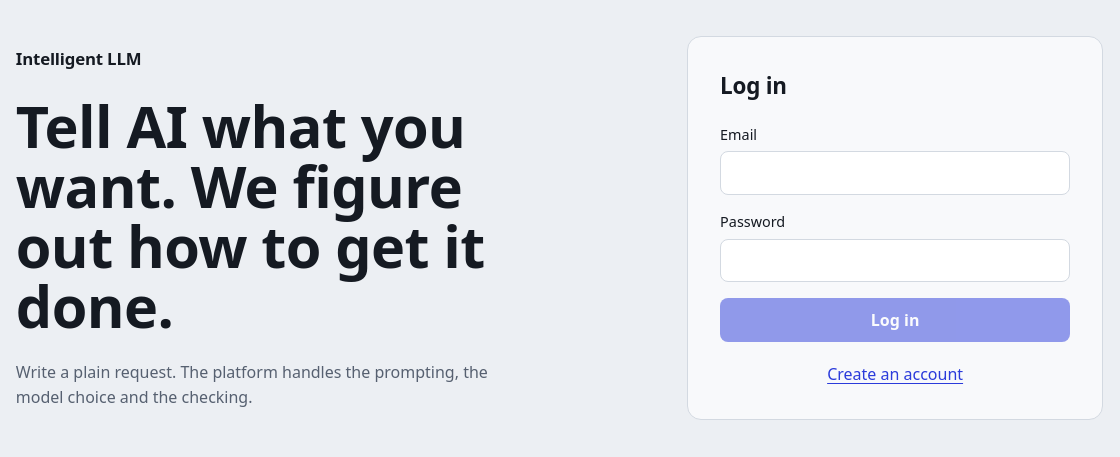
authentication flow › shows the server error on failed login
The image size is (1120, 457).
Type "mo@example.com" into the field labelled "Email". click: (895, 173)
box: [720, 152, 1070, 195]
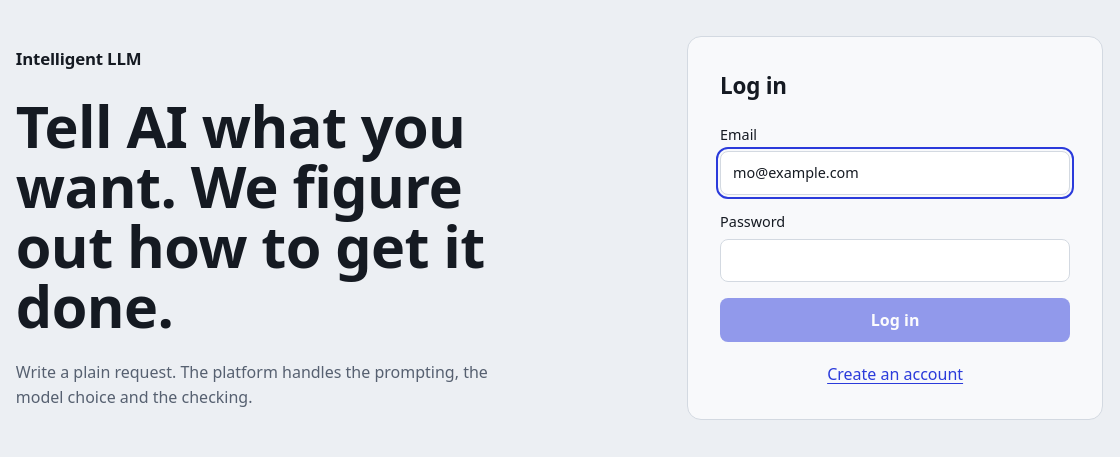
Type "wrong-password" into the password field labelled "Password". click: (895, 261)
box: [720, 239, 1070, 282]
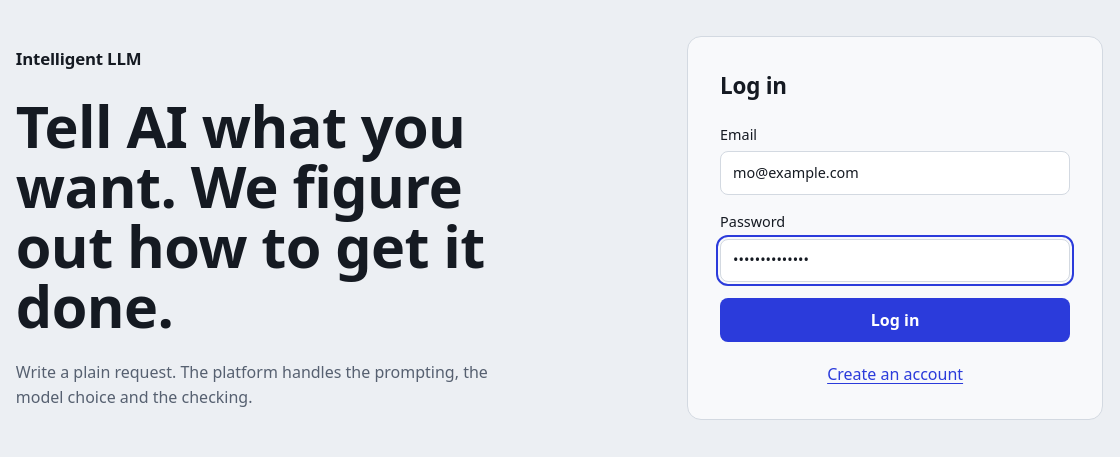
Click the button "Log in". click: (895, 320)
box: [720, 298, 1070, 342]
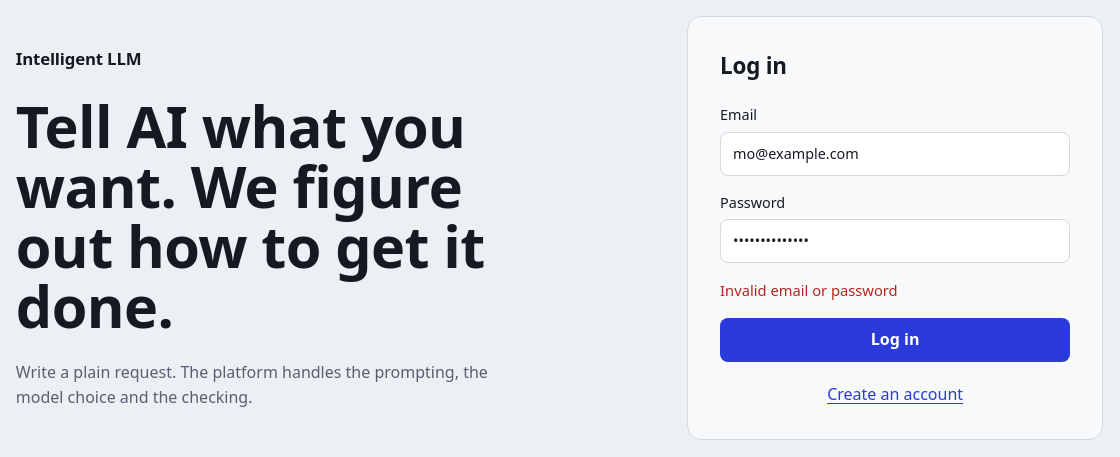
Expected: the message reads "Invalid email or password", [720, 280, 898, 300]
